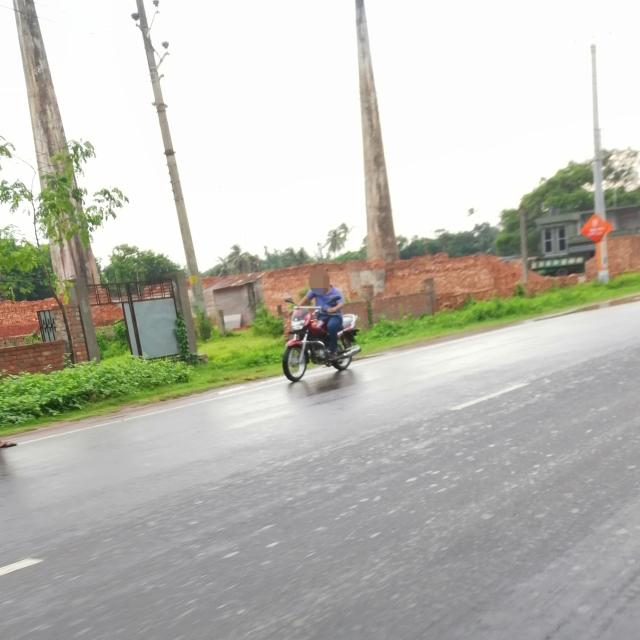Motorbike: (272, 297, 368, 385)
